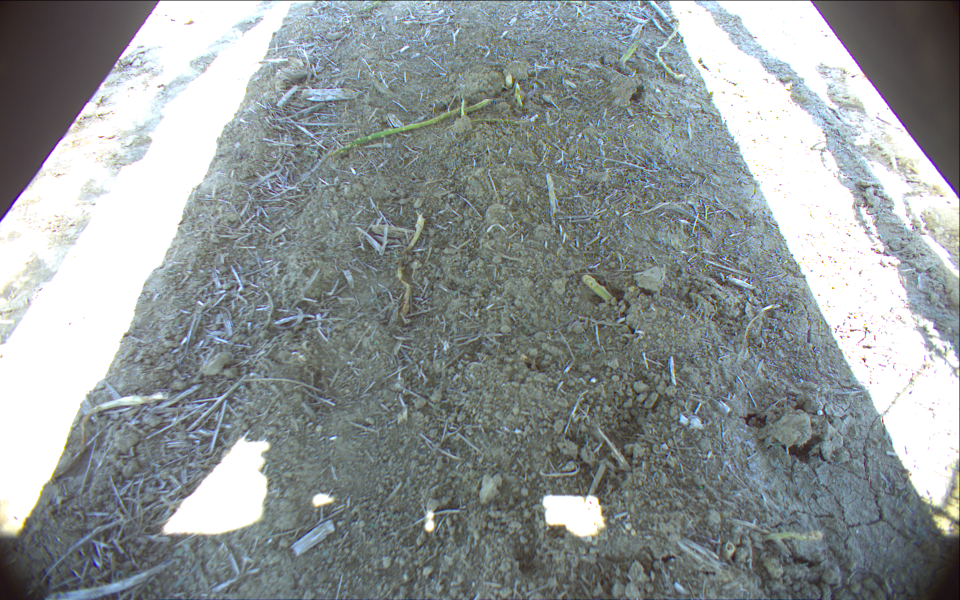aspa: (326, 97, 496, 156), (655, 24, 685, 81), (582, 272, 612, 306), (465, 114, 535, 126), (618, 40, 636, 68), (516, 82, 525, 105), (459, 97, 468, 119)
